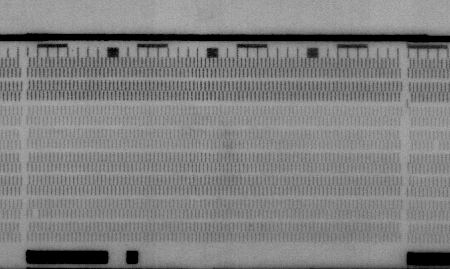Broken hole: (431, 140, 442, 153), (30, 207, 41, 220)
Oblique printing: (405, 92, 413, 107)
